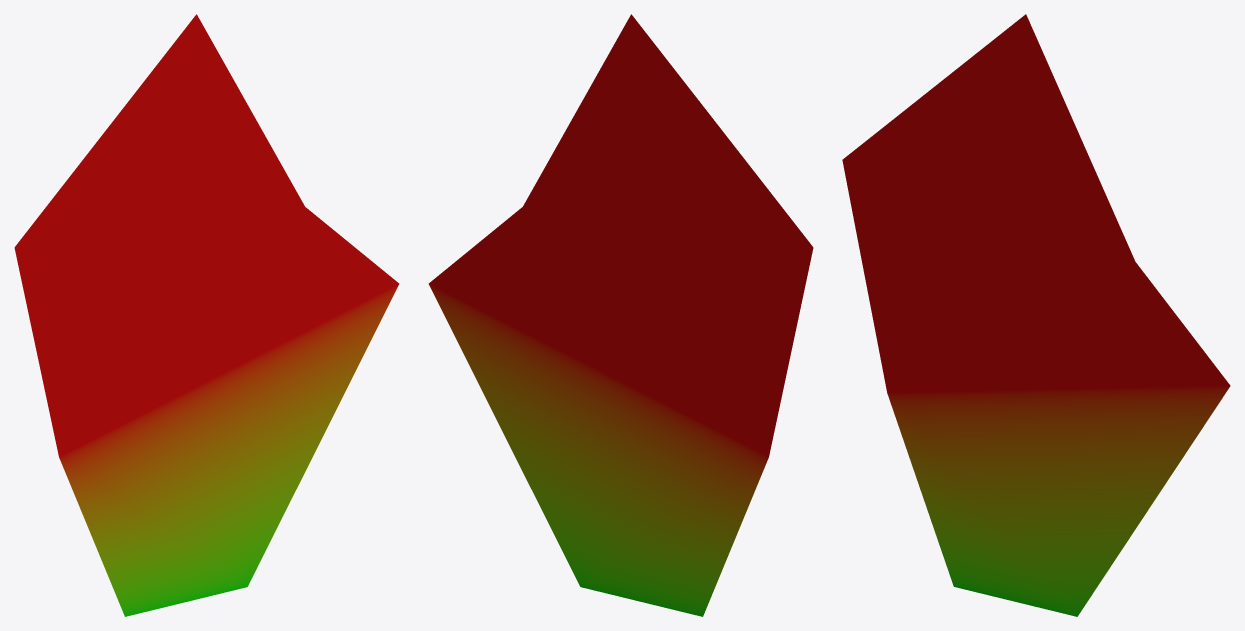
Rendered from Wheat Grass_LOD3_Var3_tdcrdbur.fbx.
3 renders of one model, left to right at view 1: azimuth 30°, elevation 25°; view 2: azimuth 150°, elevation 25°; view 3: azimuth 330°, elevation 25°, orthographic.
Visible parts, largest first — view 1: _0509_Var3_LOD3; view 2: _0509_Var3_LOD3; view 3: _0509_Var3_LOD3.
Boxes of the visible parts, x1,y1,x2,y2 form: _0509_Var3_LOD3: (14, 14, 399, 616); _0509_Var3_LOD3: (428, 14, 813, 616); _0509_Var3_LOD3: (842, 14, 1230, 616).
Bounding box in the file's own units: 90.49 × 131 × 3.81e-06.
